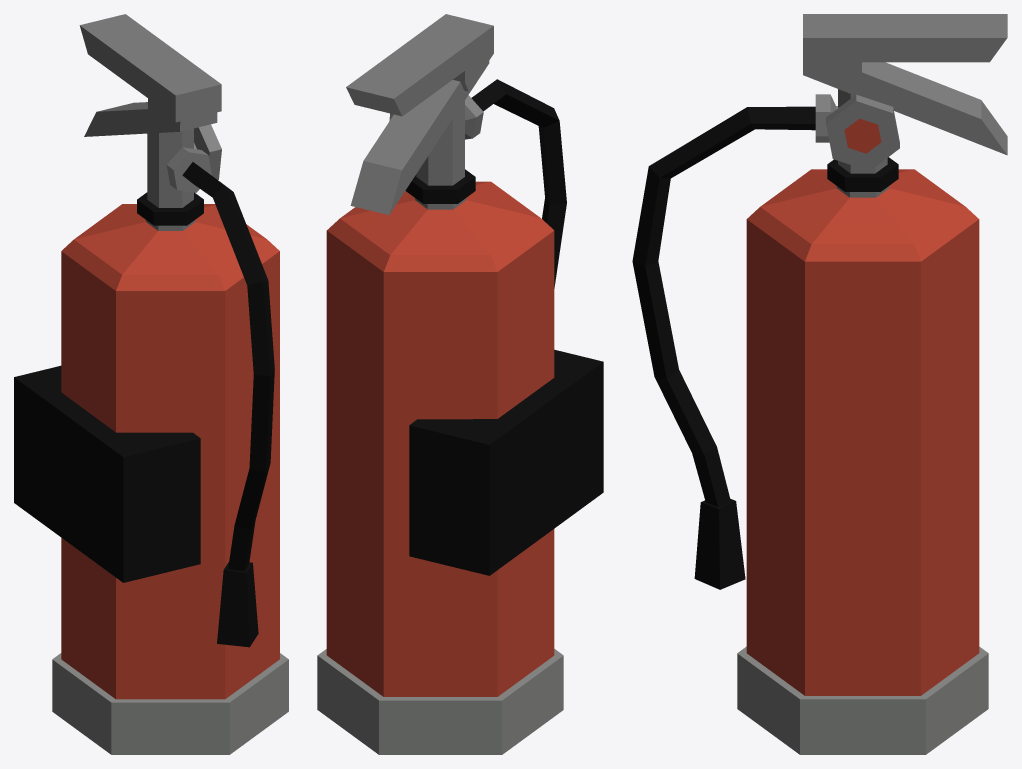
The model's file is Int_FireExtinguisher01.fbx.
3 views of the same model, side by side, from view 1: azimuth 30°, elevation 25°; view 2: azimuth 150°, elevation 25°; view 3: azimuth 270°, elevation 25° (orthographic). The views are drawn at different scales.
Visible parts, largest first — view 1: Int_FireExtinguisher01; view 2: Int_FireExtinguisher01; view 3: Int_FireExtinguisher01.
Part boxes in pixels (box(x1,y1,x2,y2)): Int_FireExtinguisher01: box(14, 14, 288, 754); Int_FireExtinguisher01: box(317, 14, 603, 754); Int_FireExtinguisher01: box(632, 14, 1007, 754).
Size of what is drawn, in the model's own units: 21.73 by 34.85 by 70.02.
